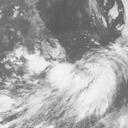cyclone: (48, 61, 117, 115)
